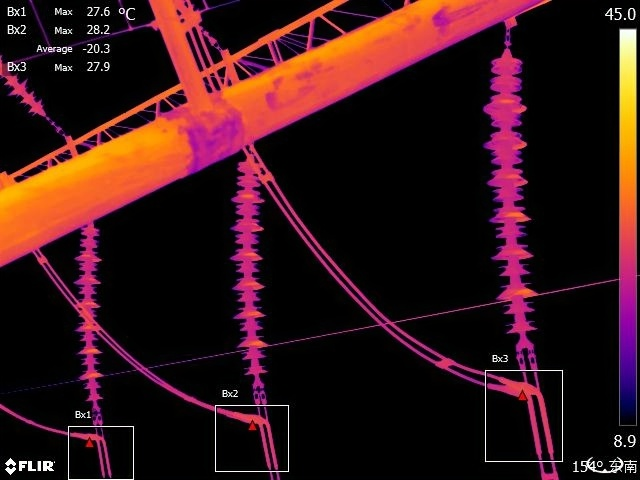clamp: (490, 374, 553, 414), (240, 409, 275, 435), (76, 429, 113, 448)
insulator: (484, 39, 543, 340), (231, 152, 272, 381), (67, 225, 113, 421), (1, 59, 59, 126)
